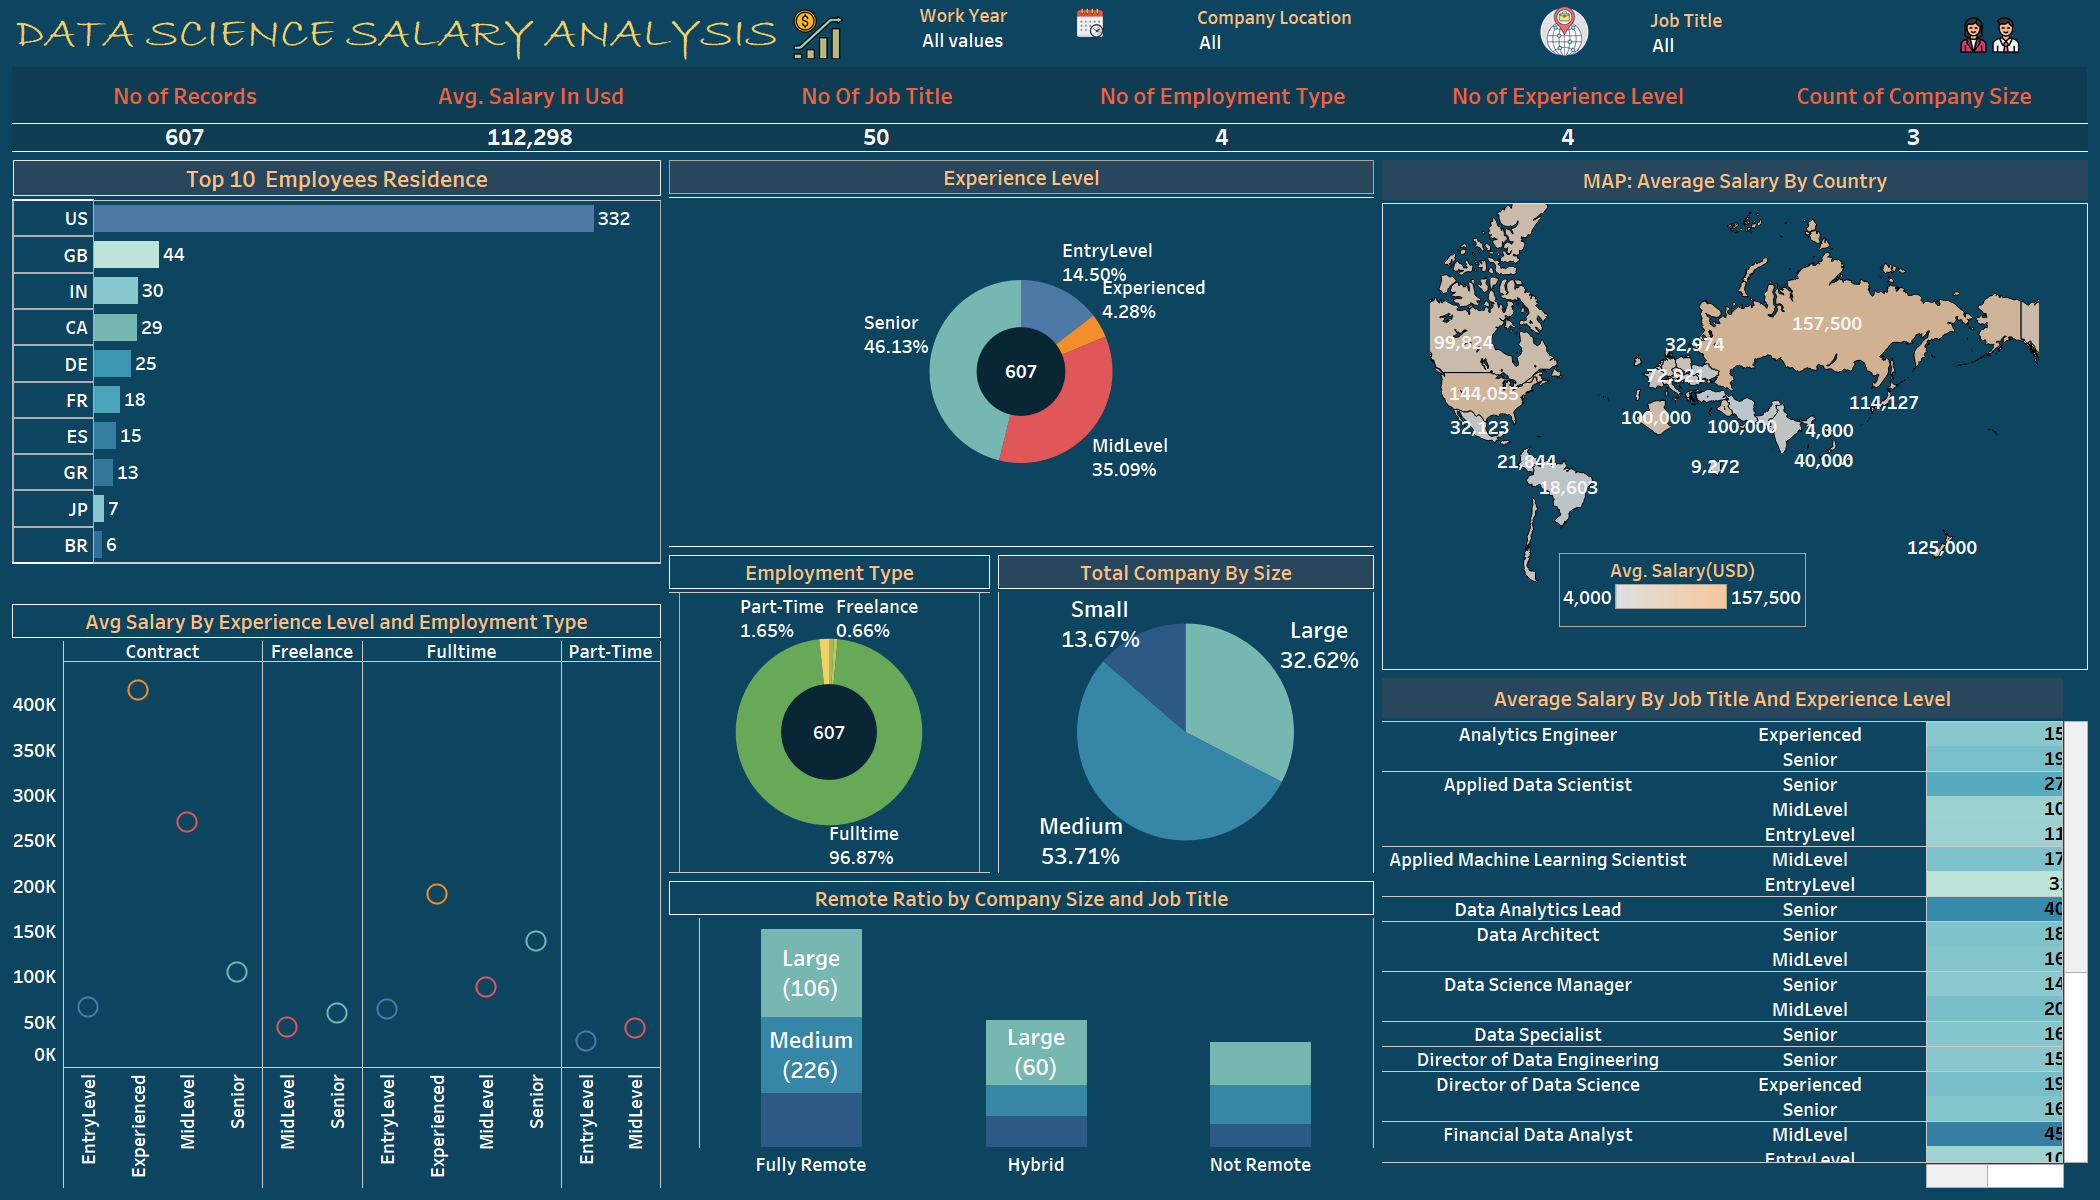

What the dashboard file says about the page in this screenshot:
{"tool":"tableau","page":{"name":"DASHBOARD:DATA SCIENCE SALARY","canvas":[2100,1200],"ordinal":0},"visuals":[{"type":"image","param":"C:/Users/chiamaka Arua/Downloads/recruiting.png","box":[1956,1,109,67]},{"type":"image","param":"C:/Users/chiamaka Arua/Downloads/track.png","box":[1069,2,56,41]},{"type":"image","param":"C:/Users/chiamaka Arua/Downloads/local-business.png","box":[1535,2,77,58]},{"type":"filter","title":"MAP: Average Salary By Country","param":"[federated.1p0msgd05ptz2e15we4k11tvhyyp].[none:job_title:nk]","box":[1646,2,310,62]},{"type":"image","param":"C:/Users/chiamaka Arua/Downloads/revenue (1).png","box":[789,5,75,58]},{"type":"title","box":[8,8,2084,55]},{"type":"worksheet","title":"Major KPI","mark":"Automatic","box":[8,63,2084,93]},{"type":"worksheet","title":"Top 10  Employees Residence","mark":"Automatic","rows":["employee_residence"],"cols":["employee_residence"],"box":[8,156,657,444]},{"type":"worksheet","title":"Experience  Level by Company location","mark":"Pie","rows":["Calculation_987695696569602049","Calculation_987695696569602049"],"box":[665,156,713,395]},{"type":"worksheet","title":"MAP: Average Salary By Country","mark":"Automatic","box":[1378,156,714,518]},{"type":"legend","title":"MAP: Average Salary By Country","param":"[federated.1p0msgd05ptz2e15we4k11tvhyyp].[avg:salary_in_usd:qk]","box":[1555,549,255,100]},{"type":"worksheet","title":"Employment Type by company Location","mark":"Pie","rows":["Calculation_987695696569602049","Calculation_987695696569602049"],"box":[665,551,328.5,326]},{"type":"worksheet","title":"Companies by Size and location","mark":"Pie","box":[993.5,551,384.5,326]},{"type":"worksheet","title":"Avg Salary By Experience Level and Employment Type","mark":"Shape","rows":["salary_in_usd"],"cols":["employment_type","experience_level"],"box":[8,600,657,592]},{"type":"worksheet","title":"Average Salary By Job Title And Experience Level","mark":"Square","rows":["job_title","experience_level"],"box":[1378,674,714,518]},{"type":"worksheet","title":"Remote Ratio by Company Size and Job Title","mark":"Automatic","rows":["Calculation_160722212871004162"],"cols":["Calculation_987695696628715522"],"box":[665,877,713,315]}]}

Visuals, with their boxes in screenshot pixels (x1, y1, x2, y2), scaled from the page's 2100x1200 canvas onto the 2100x1200 screenshot:
image: locate(1956, 1, 2065, 68)
image: locate(1069, 2, 1125, 43)
image: locate(1535, 2, 1612, 60)
"MAP: Average Salary By Country" filter: locate(1646, 2, 1956, 64)
image: locate(789, 5, 864, 63)
title: locate(8, 8, 2092, 63)
"Major KPI" worksheet: locate(8, 63, 2092, 156)
"Top 10  Employees Residence" worksheet: locate(8, 156, 665, 600)
"Experience  Level by Company location" worksheet (Pie marks): locate(665, 156, 1378, 551)
"MAP: Average Salary By Country" worksheet: locate(1378, 156, 2092, 674)
"MAP: Average Salary By Country" legend: locate(1555, 549, 1810, 649)
"Employment Type by company Location" worksheet (Pie marks): locate(665, 551, 994, 877)
"Companies by Size and location" worksheet (Pie marks): locate(994, 551, 1378, 877)
"Avg Salary By Experience Level and Employment Type" worksheet (Shape marks): locate(8, 600, 665, 1192)
"Average Salary By Job Title And Experience Level" worksheet (Square marks): locate(1378, 674, 2092, 1192)
"Remote Ratio by Company Size and Job Title" worksheet: locate(665, 877, 1378, 1192)
